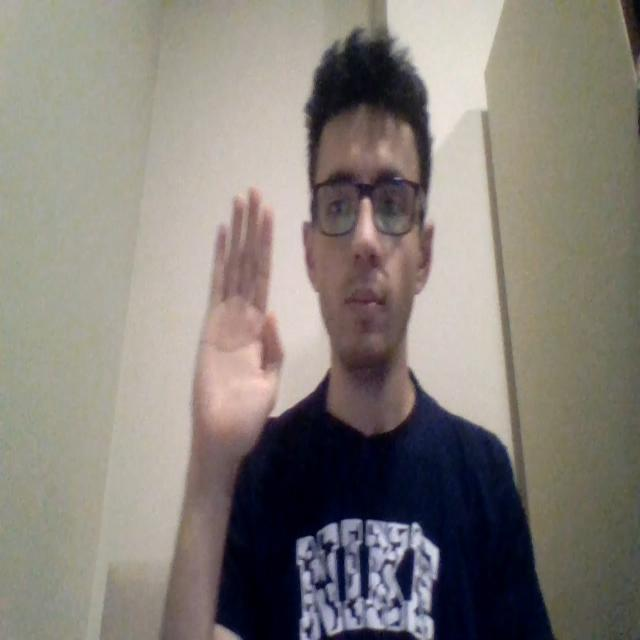hello: (189, 185, 285, 477)
